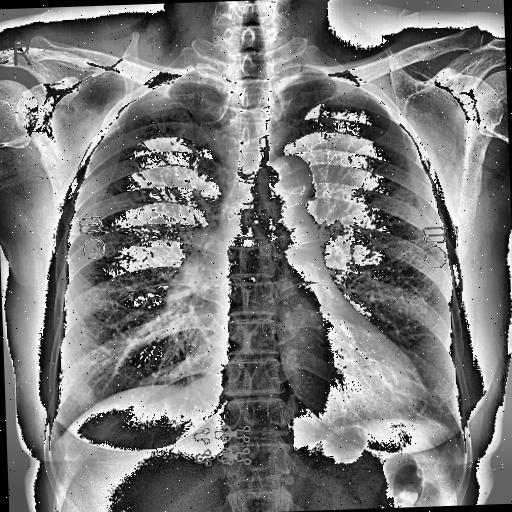0- Aortic enlargement: (258, 154, 318, 230), (250, 150, 316, 214), (257, 152, 319, 216)
3- Cardiomegaly: (218, 322, 430, 430), (206, 344, 430, 426)
7- Lung Opacity: (68, 380, 94, 406)
8- Nodule-Mass: (67, 387, 92, 410)
